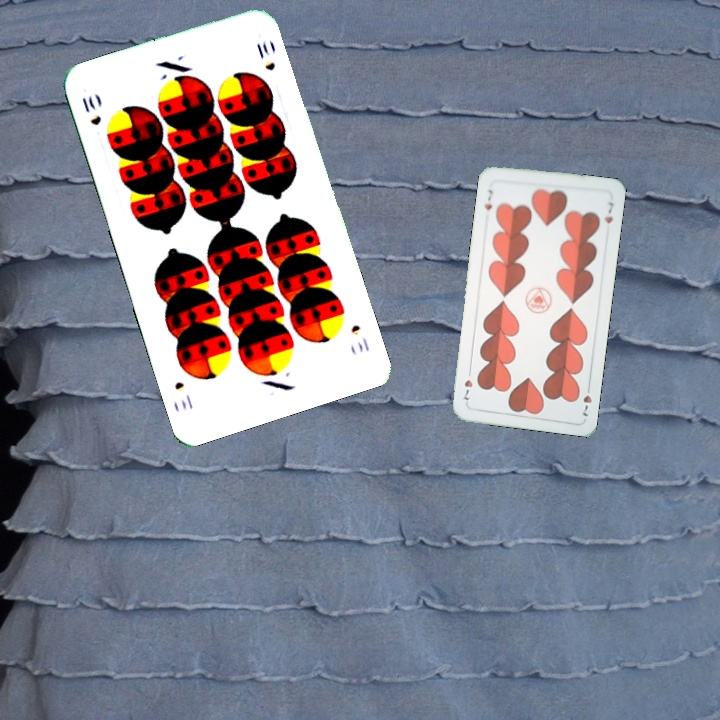H7: (579, 380, 594, 419), (480, 185, 496, 212)
S10: (78, 92, 104, 128), (347, 321, 372, 355)
